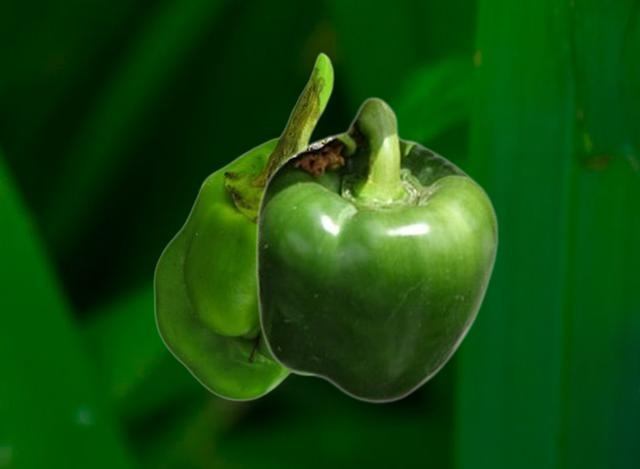bell_pepper: (254, 96, 498, 403), (152, 51, 336, 400)
